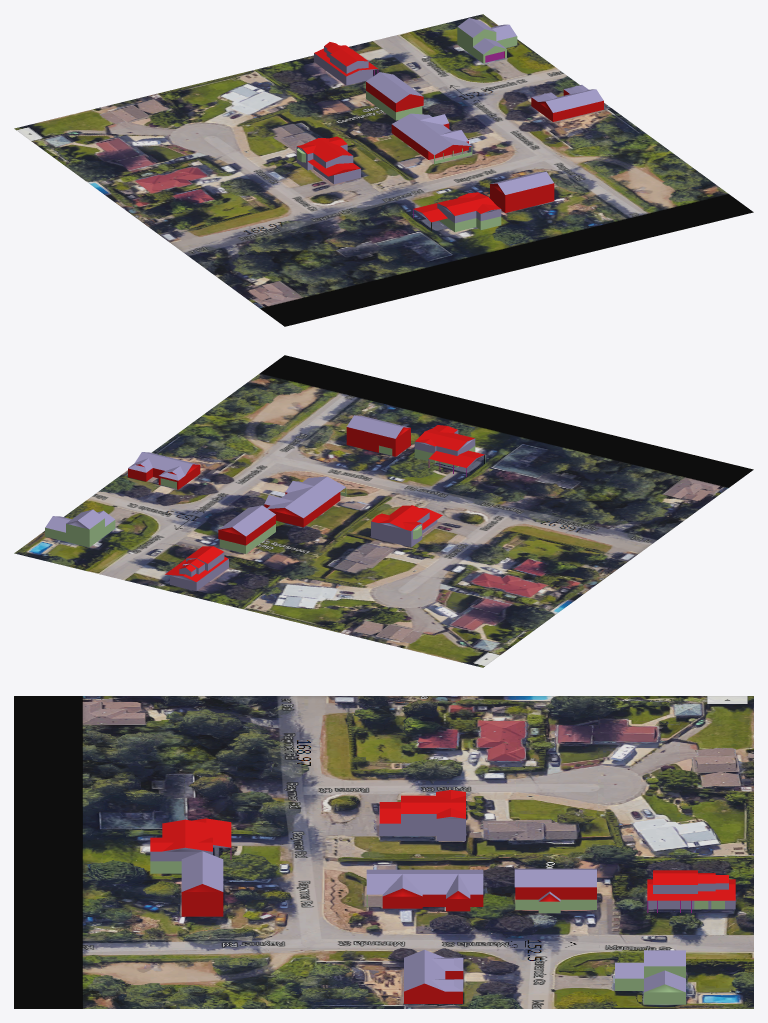
The model's file is Raymer_New.FBX.
The picture shows the model from 3 angles, top to bottom: view 1: azimuth 30°, elevation 25°; view 2: azimuth 150°, elevation 25°; view 3: azimuth 270°, elevation 25°; orthographic projection. The views are drawn at different scales.
Visible parts, largest first — view 1: Mesh010, Box001, Box009, Box011, Box007, Box005, Box003, Mesh001, Box017; view 2: Mesh010, Box001, Box009, Box011, Box007, Box003, Box005, Box017, Mesh001; view 3: Mesh010, Box001, Box011, Box003, Box017, Box005, Box009, Mesh001, Box007.
Boxes of the visible parts, left/top/right/bottom form: Mesh010: left=14, top=14, right=753, bottom=326; Box001: left=391, top=113, right=472, bottom=164; Box009: left=413, top=192, right=501, bottom=232; Box011: left=296, top=136, right=360, bottom=184; Box007: left=490, top=171, right=554, bottom=212; Box005: left=457, top=18, right=517, bottom=63; Box003: left=366, top=72, right=423, bottom=120; Mesh001: left=531, top=85, right=603, bottom=121; Box017: left=314, top=42, right=378, bottom=85; Mesh010: left=14, top=355, right=753, bottom=667; Box001: left=264, top=476, right=346, bottom=527; Box009: left=414, top=425, right=485, bottom=476; Box011: left=371, top=505, right=442, bottom=547; Box007: left=346, top=415, right=410, bottom=456; Box003: left=218, top=505, right=275, bottom=553; Box005: left=45, top=509, right=115, bottom=547; Box017: left=165, top=546, right=228, bottom=591; Mesh001: left=128, top=452, right=200, bottom=489; Mesh010: left=14, top=696, right=753, bottom=1008; Box001: left=366, top=869, right=483, bottom=911; Box011: left=379, top=790, right=465, bottom=840; Box003: left=514, top=868, right=596, bottom=913; Box017: left=647, top=870, right=735, bottom=912; Box005: left=615, top=950, right=685, bottom=1004; Box009: left=150, top=818, right=231, bottom=873; Mesh001: left=404, top=949, right=463, bottom=1003; Box007: left=181, top=851, right=223, bottom=916.
Size of what is drawn, in the model's own units: 169 by 8.47 by 169.
